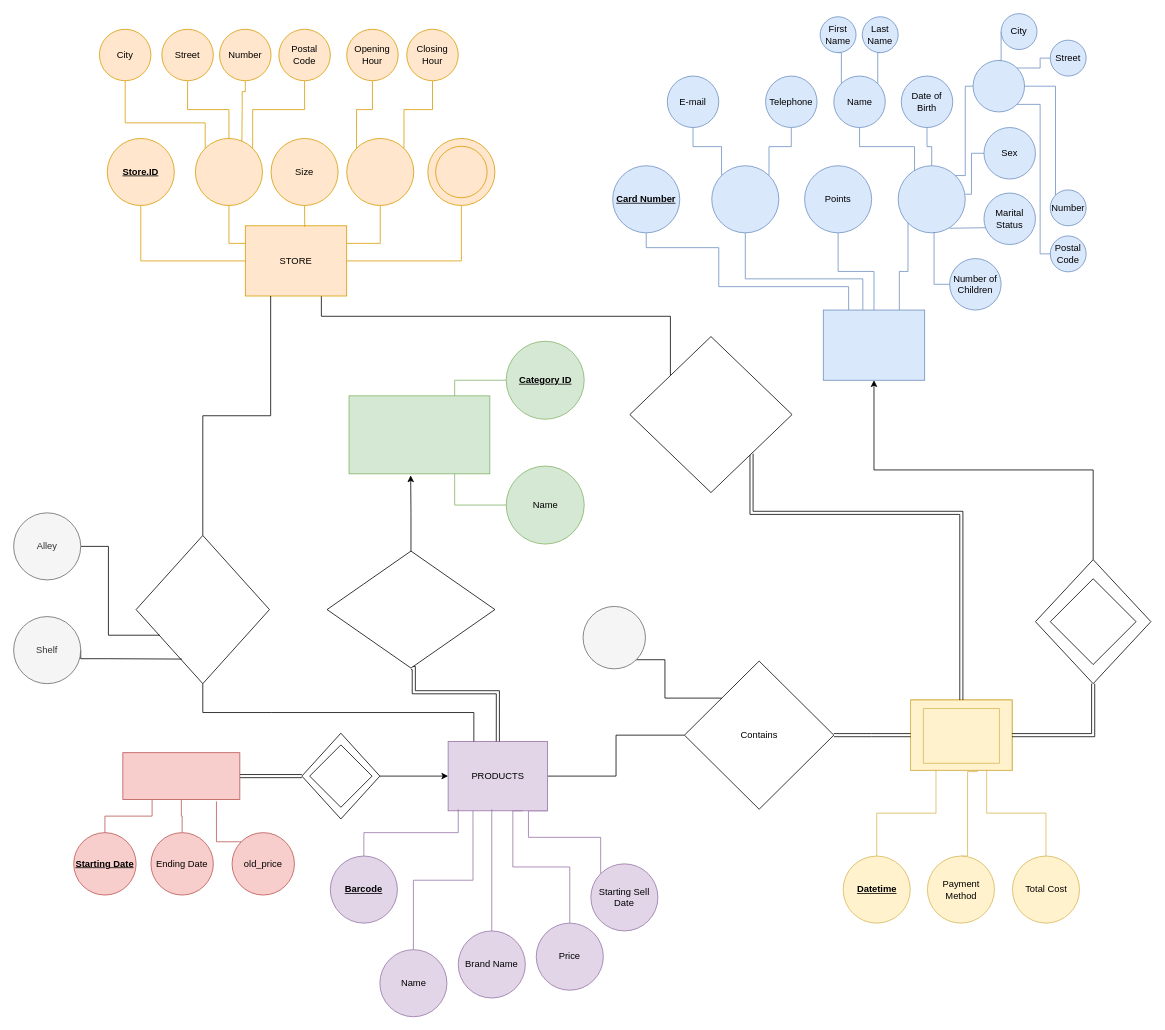
Some shapes in this 1165 by 1030 pixel diagram are drawn without their labels. Each missing label, with the centre of its shape:
Belongs: point 410,609
Category: point 419,434
Contact Information: point 745,199
had: point 340,775
Offers: point 202,609
Operation Times: point 380,172
Performs: point 1092,621
Personal Information: point 931,199
Pieces: point 613,637
PRICE HISTORY: point 181,776
Purchased From: point 710,414
Store.Adress: point 228,172
Stores Phones: point 461,171
TRANSACTION: point 961,735
USER: point 874,344
User.Adress: point 998,86
